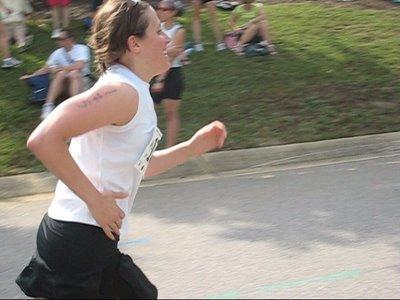person: (13, 1, 230, 300)
